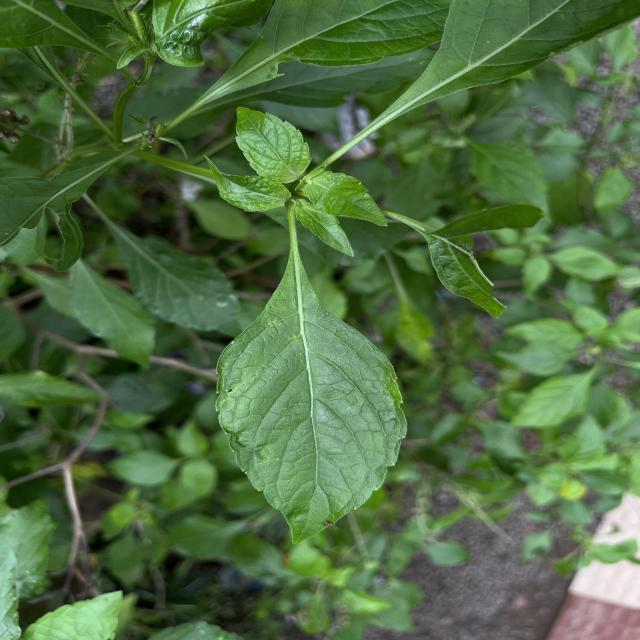Ocimum gratissimum: (210, 222, 414, 550)
